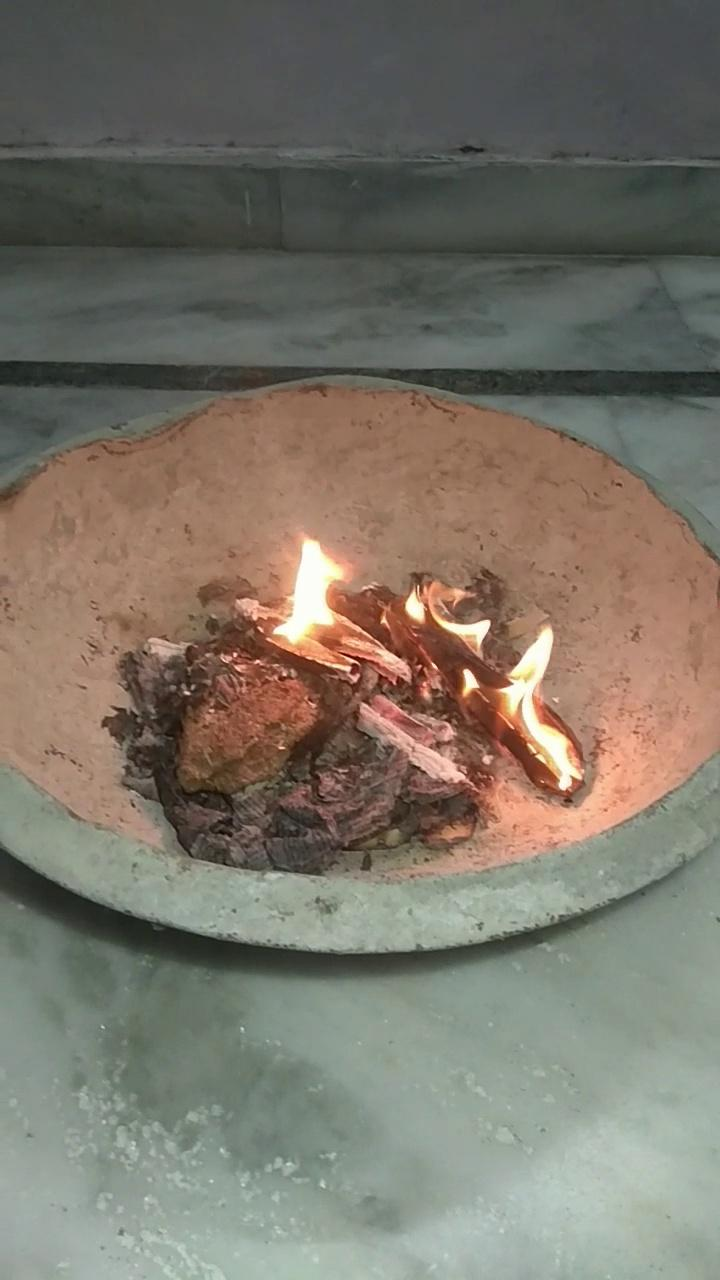fire: (442, 602, 584, 794), (256, 522, 358, 646)
